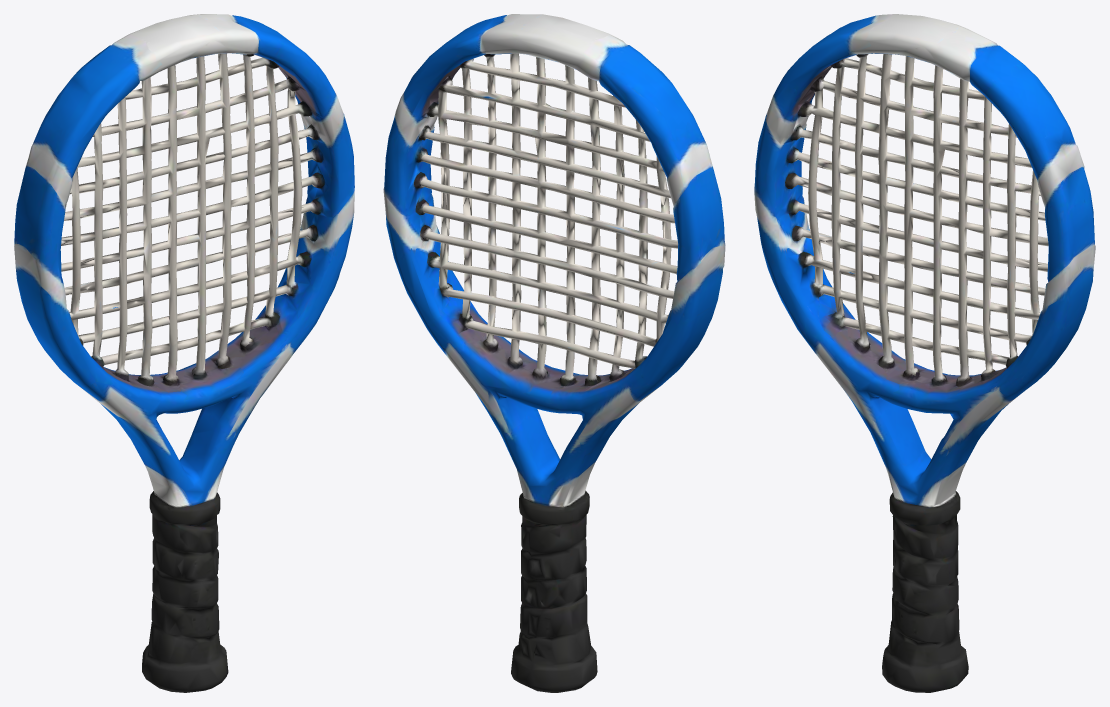
File: racket.glb
3 views of the same model, side by side, from view 1: azimuth 30°, elevation 25°; view 2: azimuth 150°, elevation 25°; view 3: azimuth 330°, elevation 25° (orthographic).
Parts seen in each view (by area): view 1: tripo_node_517ef2b2-86e1-4a74-b492-664737038ccd; view 2: tripo_node_517ef2b2-86e1-4a74-b492-664737038ccd; view 3: tripo_node_517ef2b2-86e1-4a74-b492-664737038ccd.
Boxes of the visible parts, x1=… form: tripo_node_517ef2b2-86e1-4a74-b492-664737038ccd: x1=14, y1=14, x2=354, y2=692; tripo_node_517ef2b2-86e1-4a74-b492-664737038ccd: x1=383, y1=14, x2=725, y2=692; tripo_node_517ef2b2-86e1-4a74-b492-664737038ccd: x1=754, y1=14, x2=1095, y2=692.
Bounding box in the file's own units: 0.508 × 0.9998 × 0.1222.
1 material, 1 textured.
